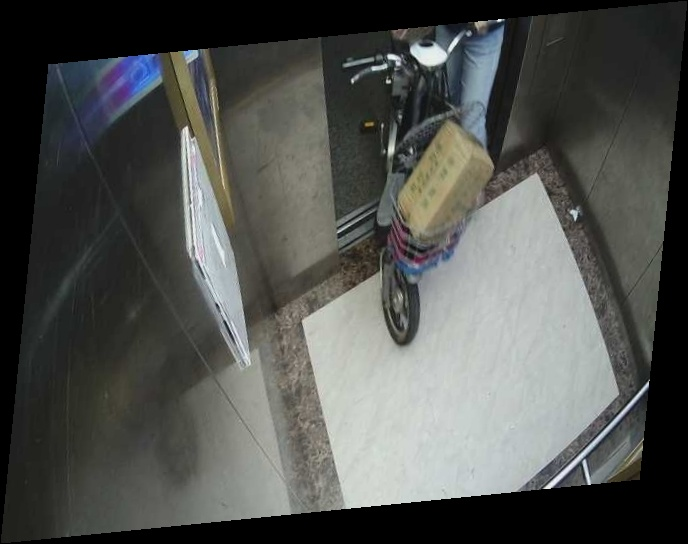electromobile: (321, 24, 502, 368)
